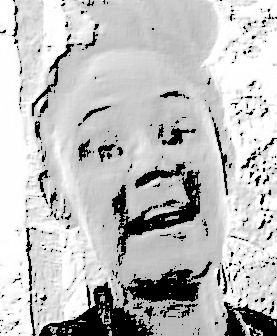nose_M_C: (130, 132, 179, 200)
